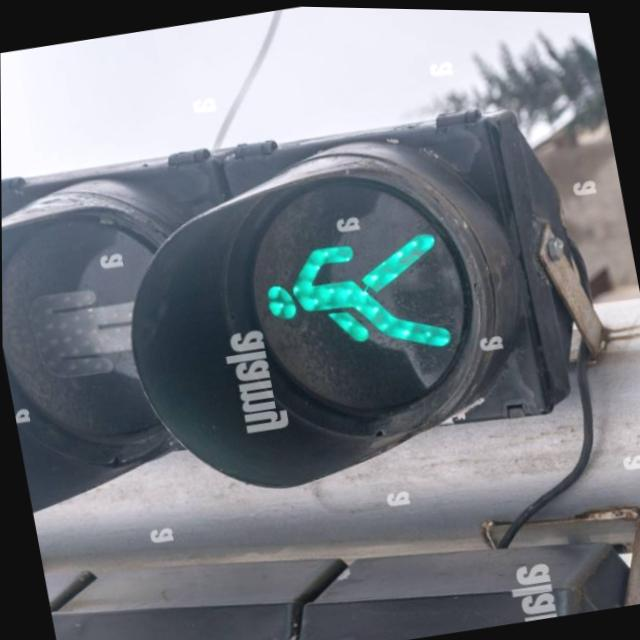green_light: (245, 216, 462, 371)
